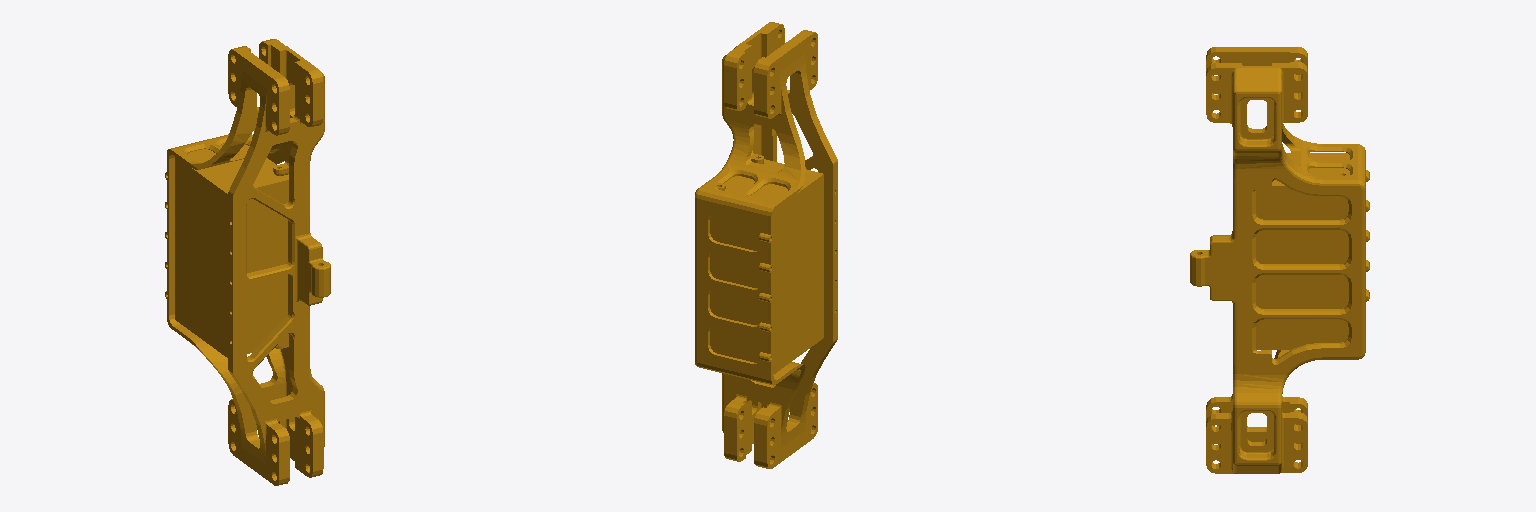
The picture shows the model from 3 angles: view 1: azimuth 30°, elevation 25°; view 2: azimuth 150°, elevation 25°; view 3: azimuth 270°, elevation 25°; orthographic projection.
Visible parts, largest first — view 1: base.STL; view 2: base.STL; view 3: base.STL.
Boxes of the visible parts, x1,y1,x2,y2 form: base.STL: [165, 39, 330, 485]; base.STL: [695, 22, 837, 468]; base.STL: [1190, 47, 1369, 473].
Bounding box in the file's own units: 0.065 × 0.272 × 0.1093.